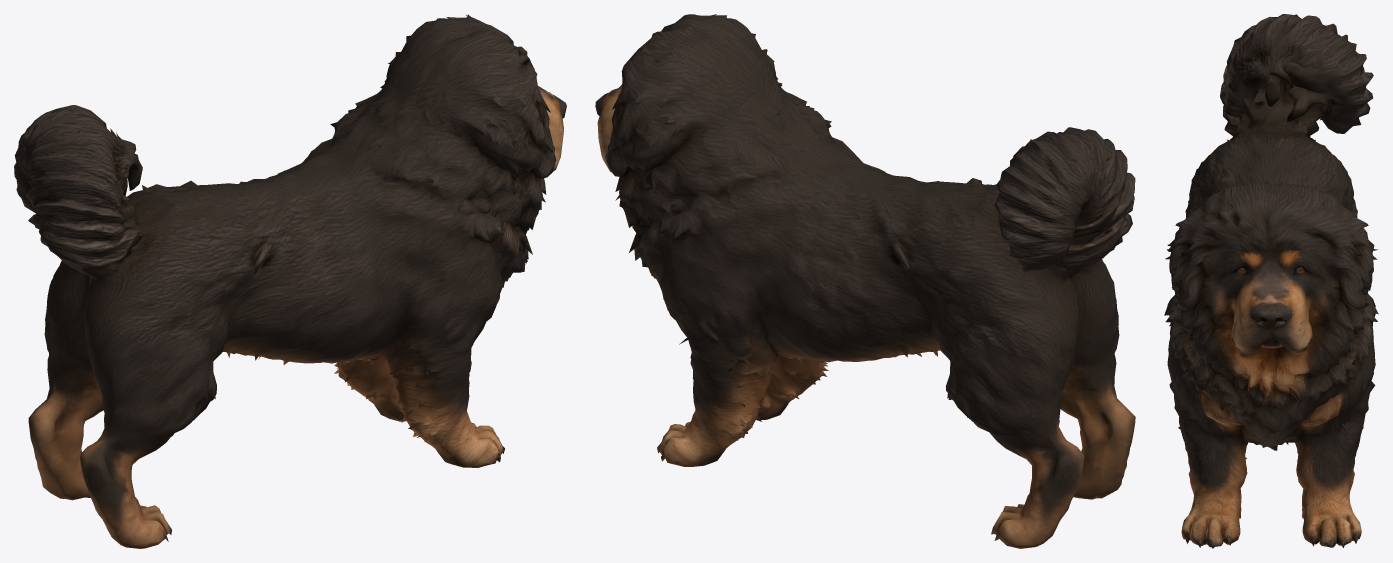
File: tibetan_mastiff.glb
The picture shows the model from 3 angles, left to right: view 1: azimuth 30°, elevation 25°; view 2: azimuth 150°, elevation 25°; view 3: azimuth 270°, elevation 25°; orthographic projection. The views are drawn at different scales.
Visible parts, largest first — view 1: node_492d1674-7bba-4e84-a39f-b559a2f96100; view 2: node_492d1674-7bba-4e84-a39f-b559a2f96100; view 3: node_492d1674-7bba-4e84-a39f-b559a2f96100.
Part boxes in pixels (box(x1,y1,x2,y2)): node_492d1674-7bba-4e84-a39f-b559a2f96100: box(14, 14, 566, 548); node_492d1674-7bba-4e84-a39f-b559a2f96100: box(595, 14, 1135, 548); node_492d1674-7bba-4e84-a39f-b559a2f96100: box(1164, 14, 1378, 548).
Size of the model in its own units: 1 by 0.7224 by 0.3841.
Materials: 1 (1 with a texture image).
